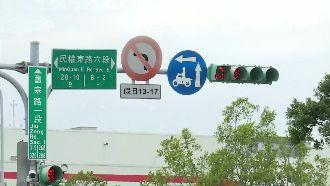no_left_turn: (119, 35, 162, 80)
